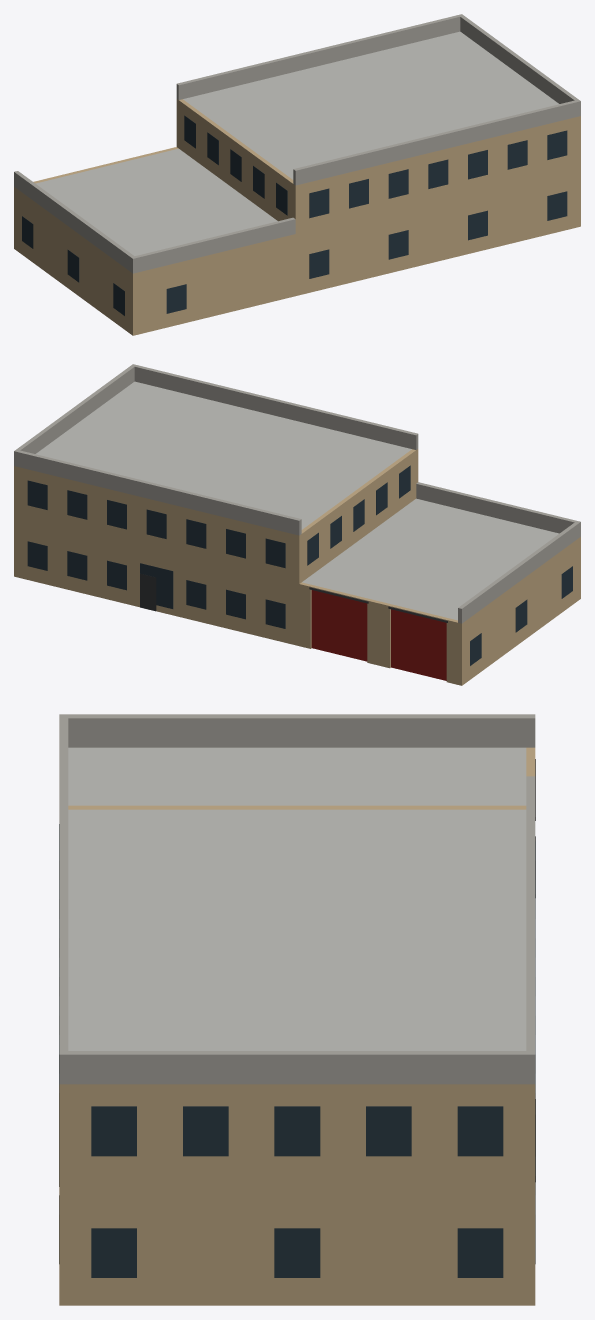
File: bld_police_quest.glb
3 views of the same model, one above another, from view 1: azimuth 30°, elevation 25°; view 2: azimuth 150°, elevation 25°; view 3: azimuth 270°, elevation 25° (orthographic). The views are drawn at different scales.
Visible parts, largest first — view 1: bld_police_quest-col; view 2: bld_police_quest-col; view 3: bld_police_quest-col.
Boxes of the visible parts, x1,y1,x2,y2 form: bld_police_quest-col: [14, 14, 580, 335]; bld_police_quest-col: [14, 364, 580, 685]; bld_police_quest-col: [59, 714, 535, 1305].
Bounding box in the file's own units: 33.92 × 9.07 × 15.63.
